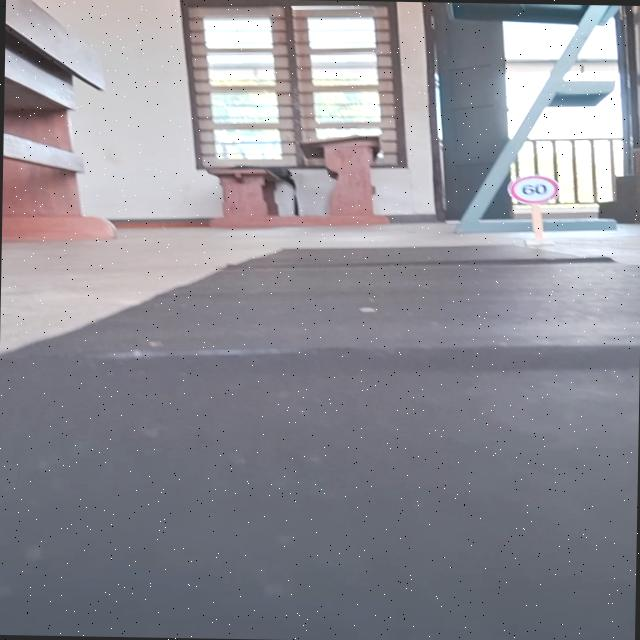Speed60: (504, 172, 564, 206)
